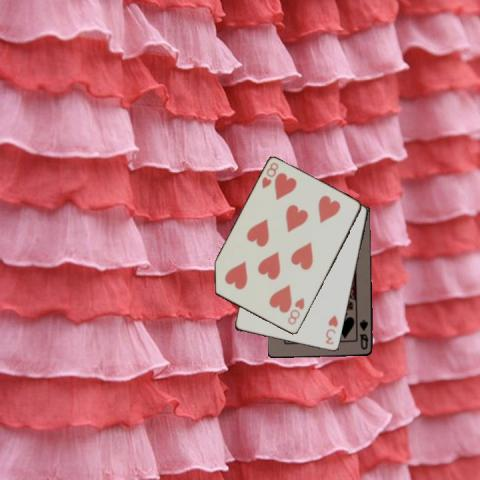3h: (322, 313, 339, 346)
8h: (285, 294, 306, 326), (259, 159, 280, 190)
Qs: (357, 317, 370, 351)
